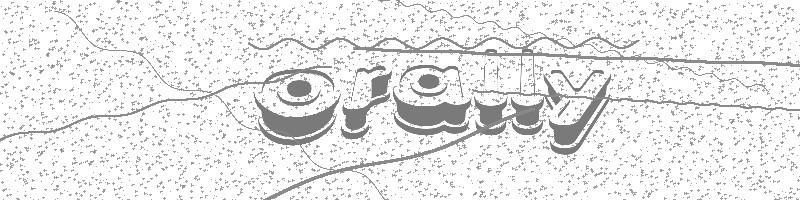a: (393, 65, 472, 134)
l: (474, 50, 507, 136), (512, 50, 545, 136)
o: (255, 69, 340, 145)
r: (341, 66, 390, 139)
y: (545, 71, 609, 154)
